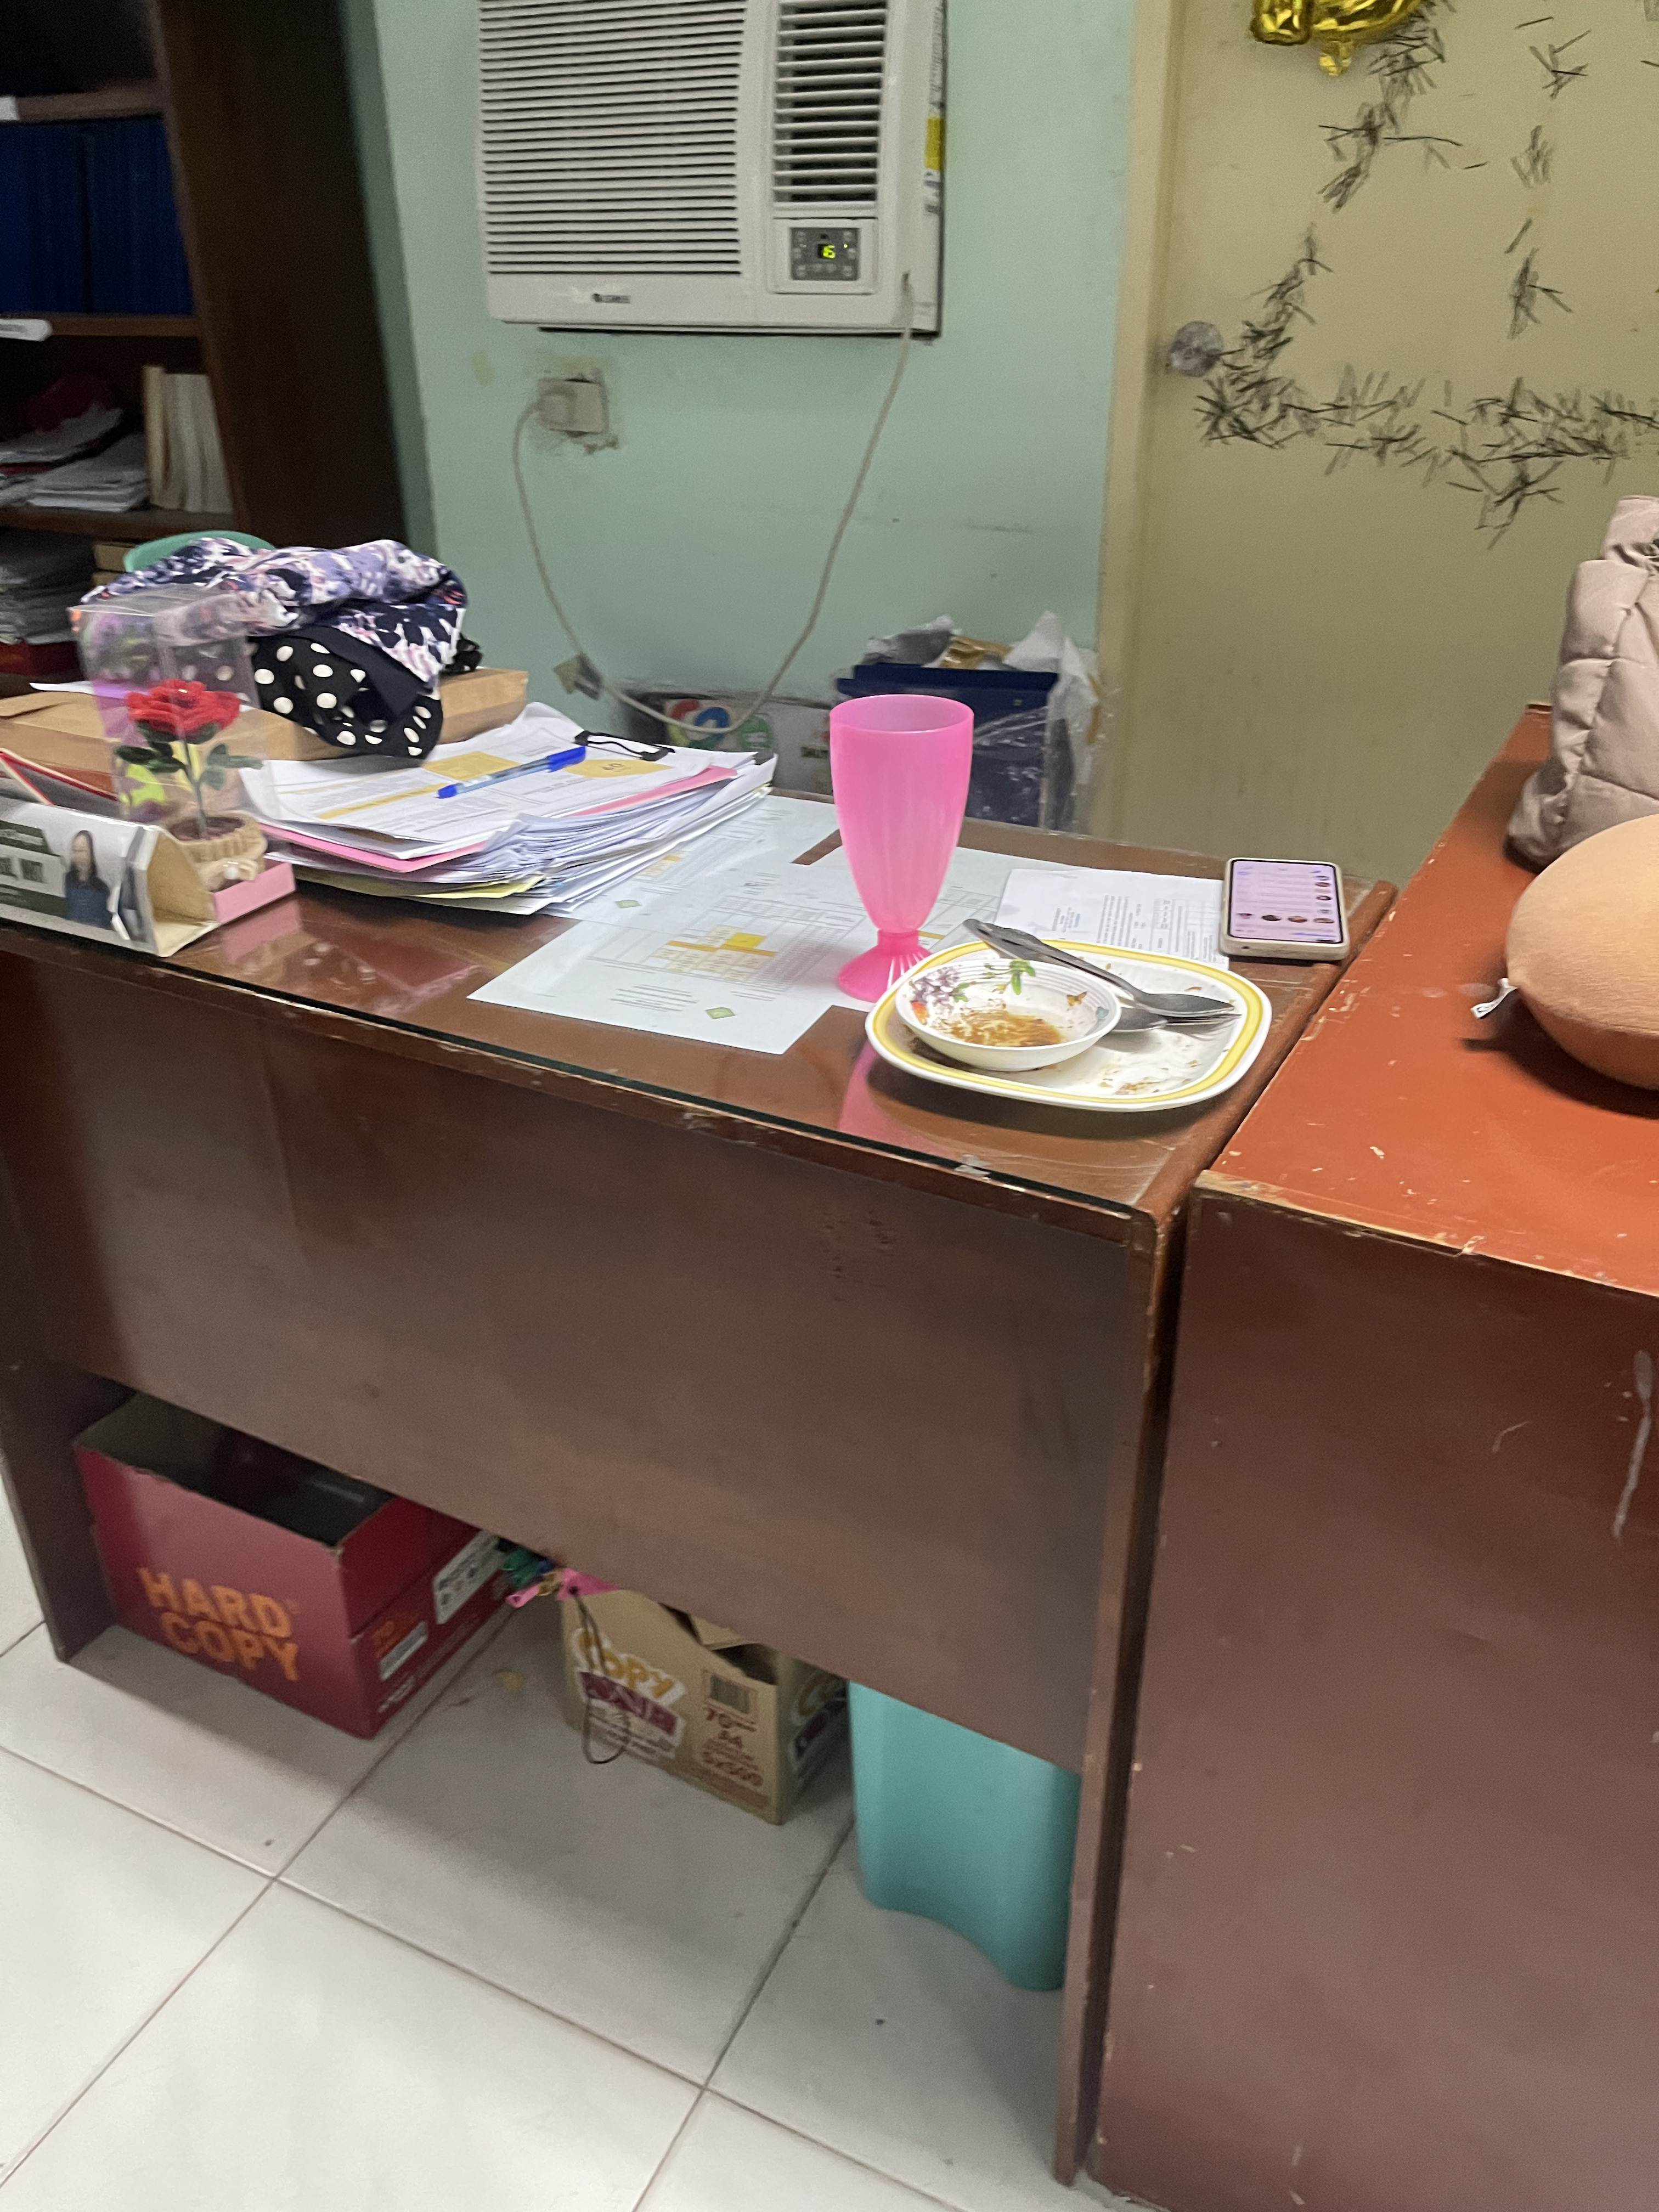table2: (3, 646, 1659, 2212)
